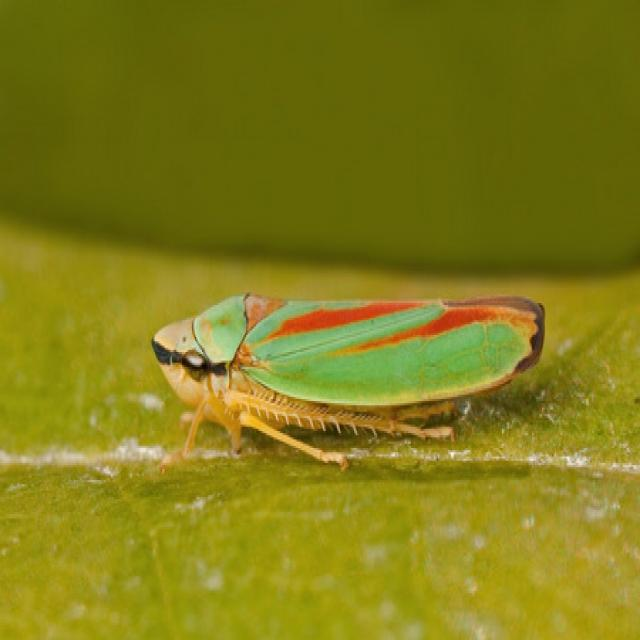Yechan: (151, 284, 557, 473)
